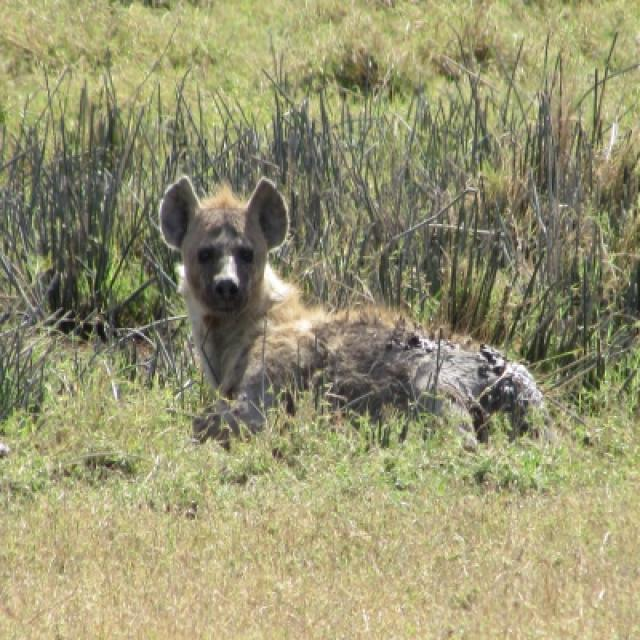hyena: (157, 178, 544, 451)
